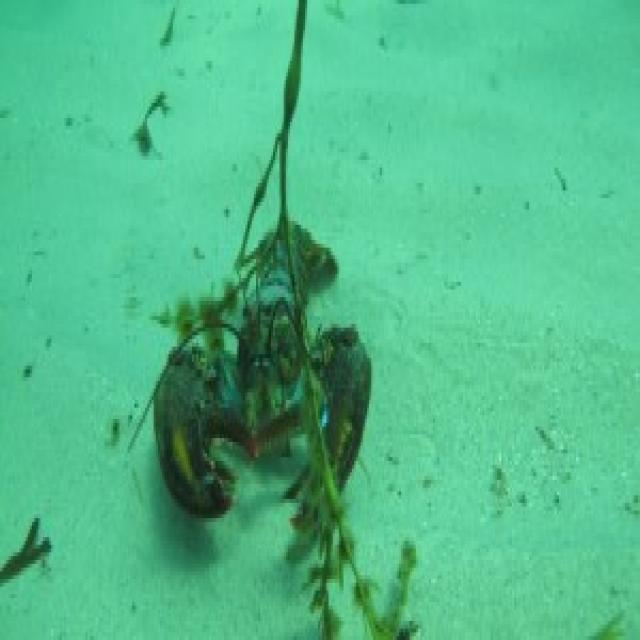lobsters: (121, 100, 424, 562)
